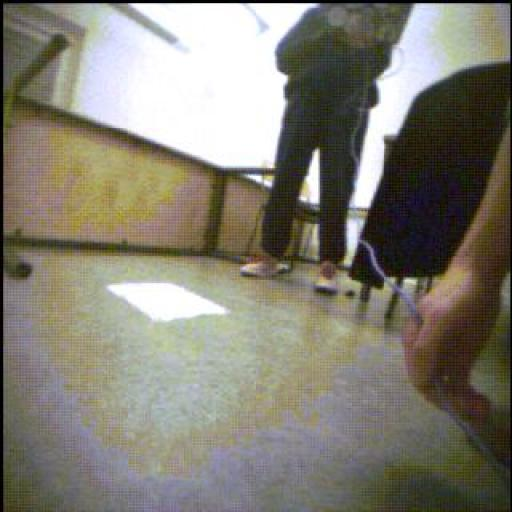Pad: (101, 278, 230, 332)
